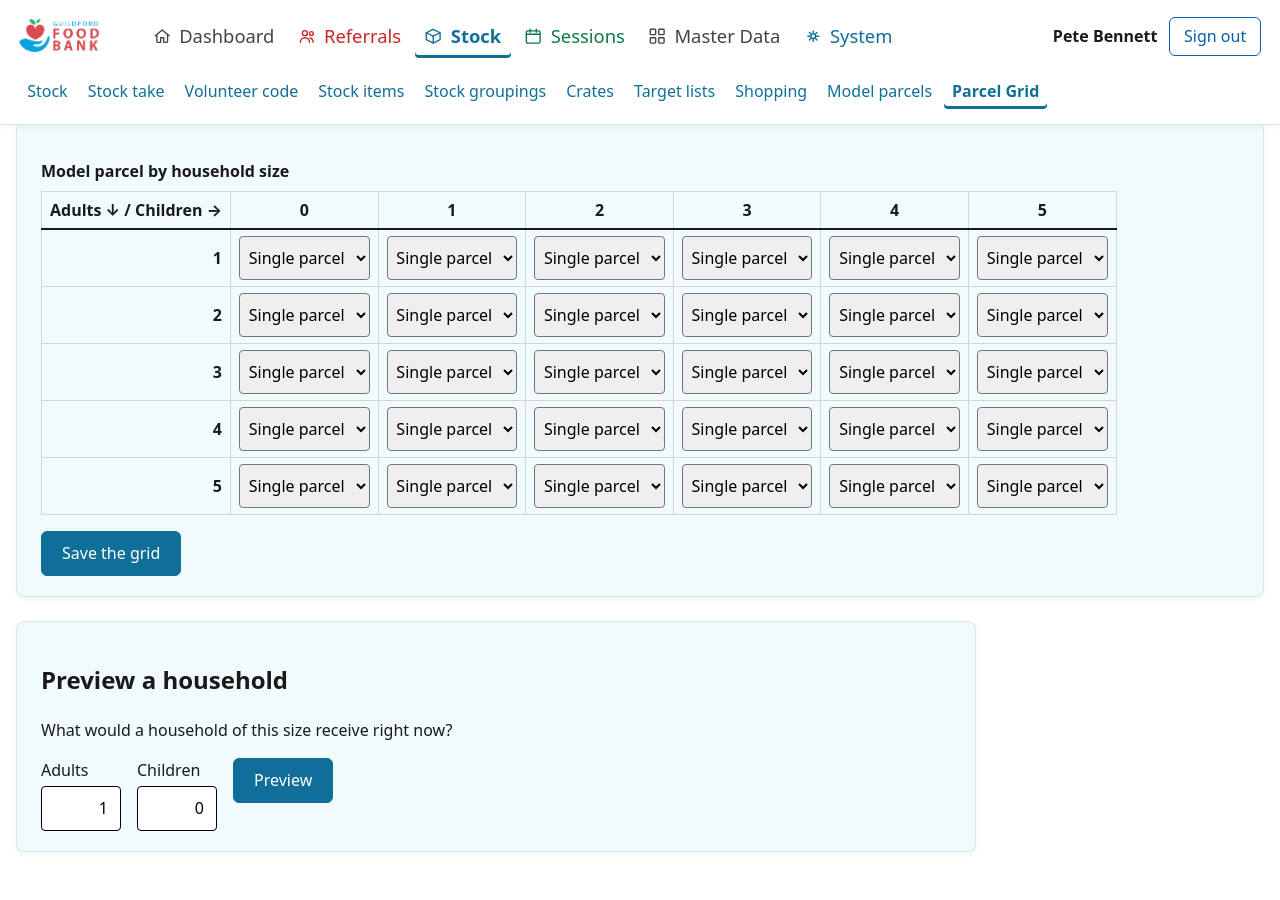
Test: the household grid › reads a clamped household as normal information, not as an error
(page scrolled)
Replace the text in the field labelled "Adults" with "9": (81, 808) x1=41 y1=786 x2=121 y2=831
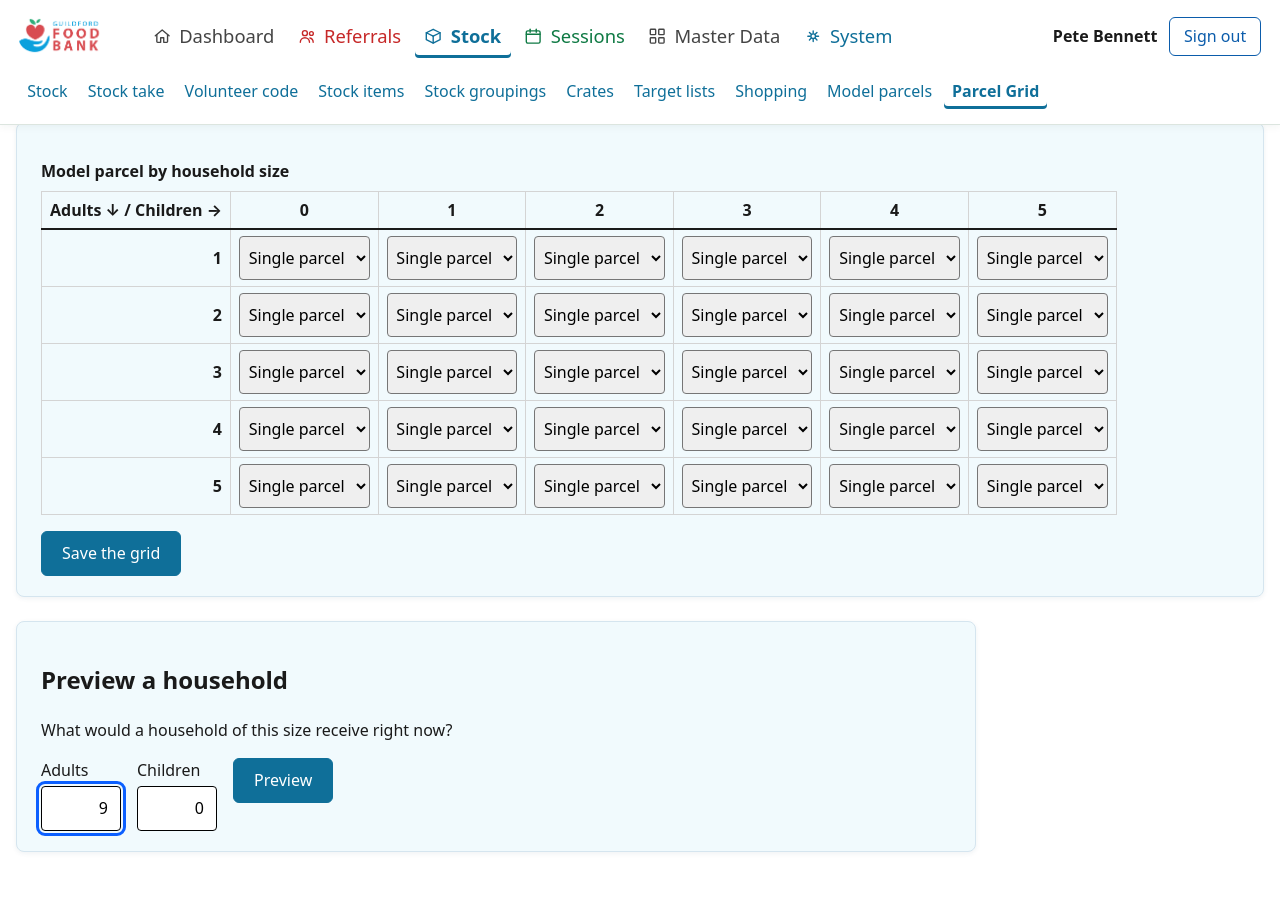
Replace the text in the field labelled "Children" with "8": (177, 808) x1=137 y1=786 x2=217 y2=831
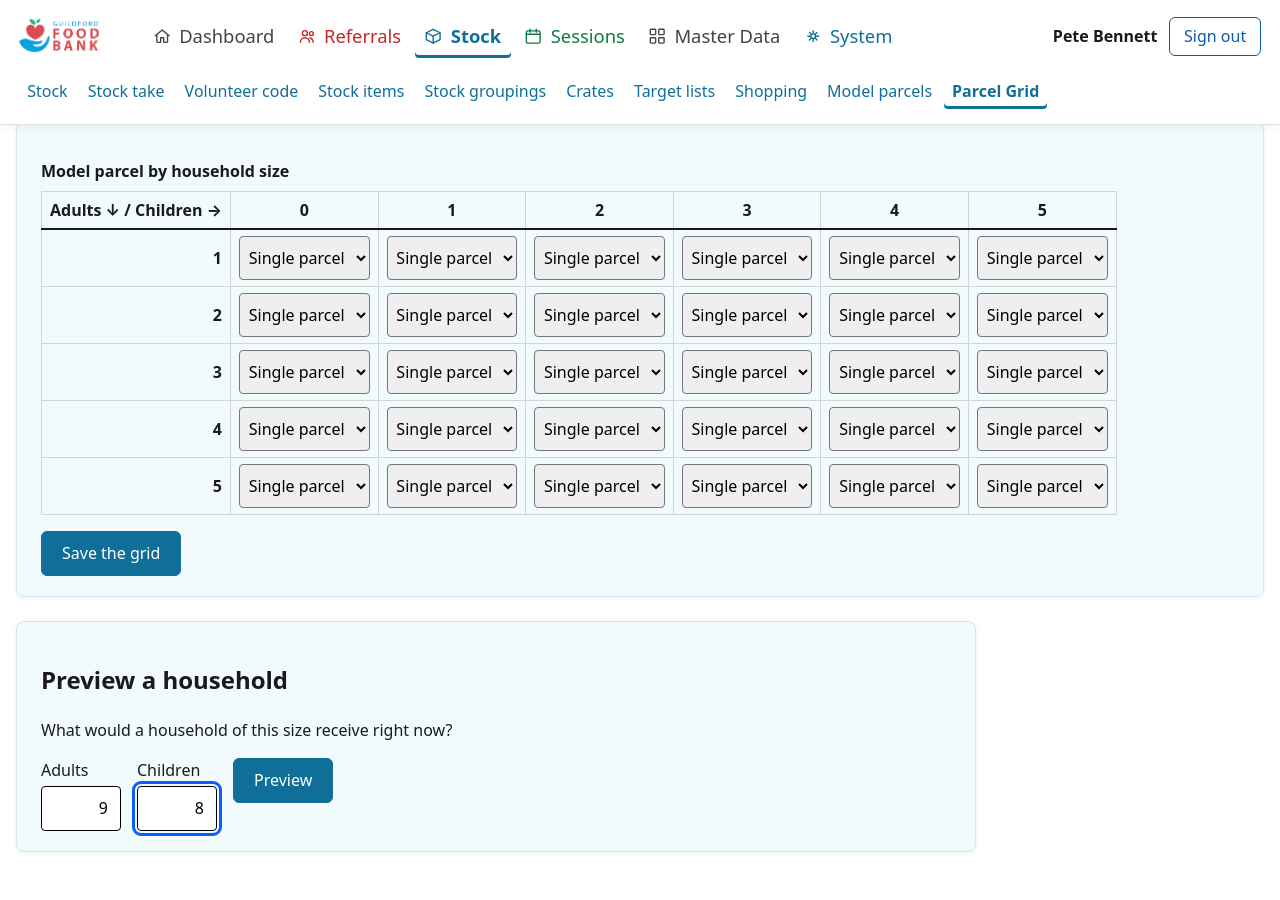
Click the button "Preview": (283, 780) x1=233 y1=758 x2=333 y2=803
(page scrolled)
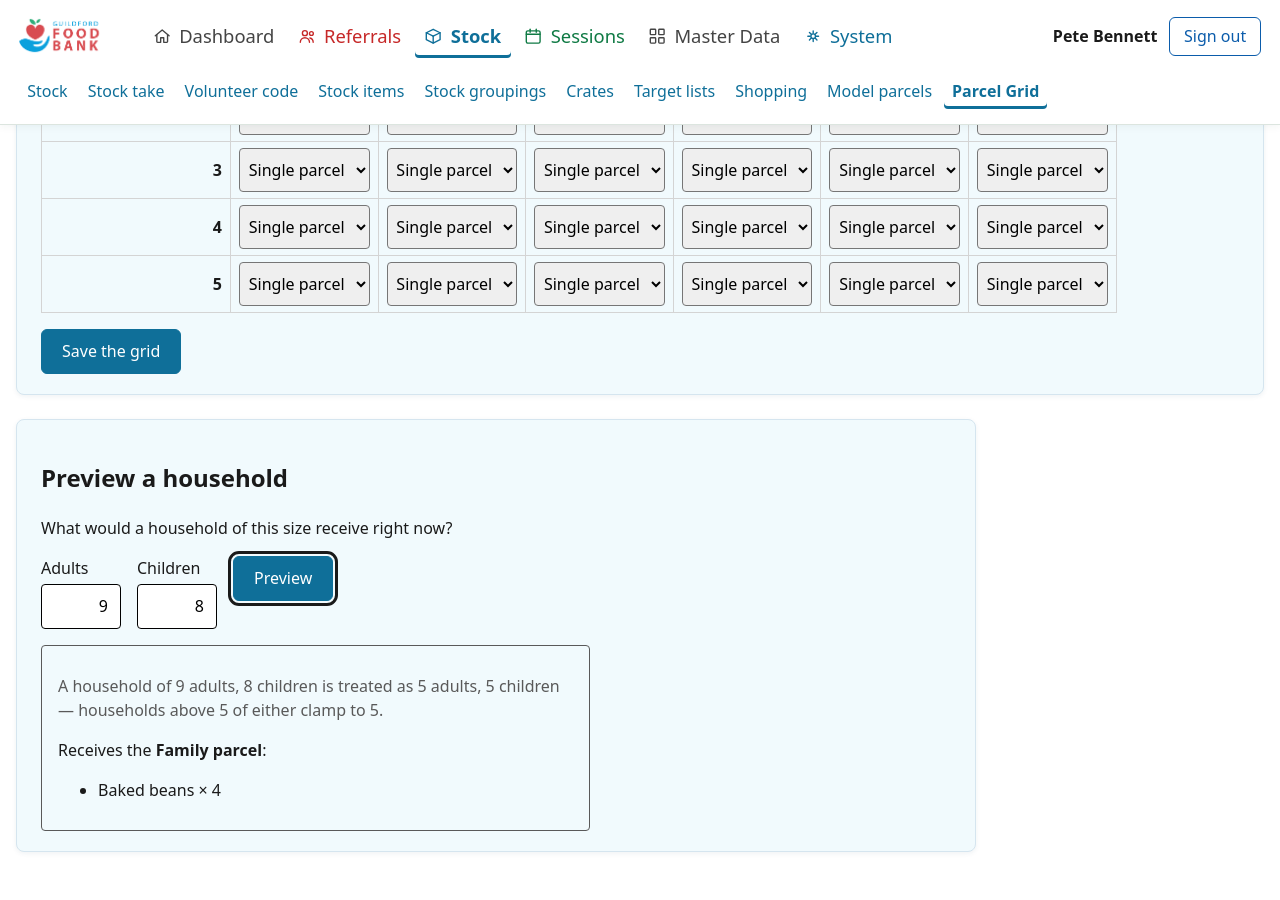
Result: the text "Family parcel" is shown at x1=156 y1=739 x2=262 y2=761
